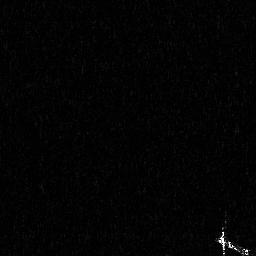ship: (213, 217, 255, 256)
